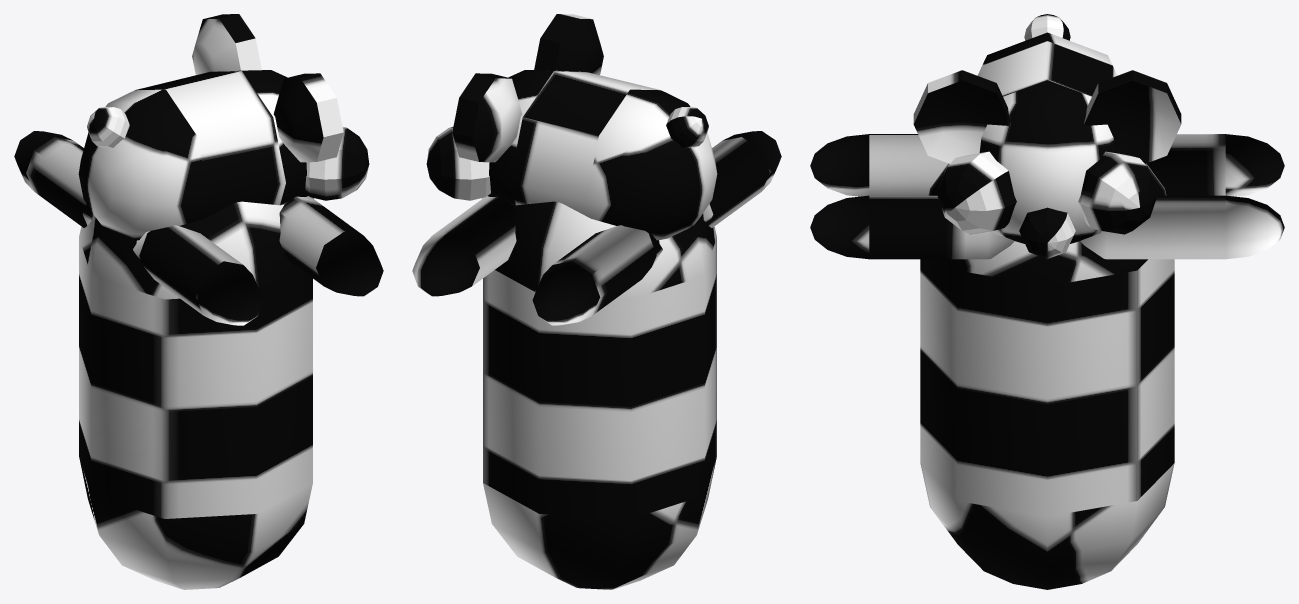
The model's file is pill.obj.
3 renders of one model, left to right at view 1: azimuth 30°, elevation 25°; view 2: azimuth 150°, elevation 25°; view 3: azimuth 270°, elevation 25°, orthographic. The views are drawn at different scales.
Parts seen in each view (by area): view 1: initialShadingGroup pCylinder2, pCylinder1; view 2: initialShadingGroup pCylinder2, pCylinder1; view 3: initialShadingGroup pCylinder2, pCylinder1.
Boxes of the visible parts, <box> form: initialShadingGroup pCylinder2: <box>79,201,312,589</box>; pCylinder1: <box>14,14,383,325</box>; initialShadingGroup pCylinder2: <box>483,201,716,589</box>; pCylinder1: <box>412,14,781,325</box>; initialShadingGroup pCylinder2: <box>920,163,1174,589</box>; pCylinder1: <box>810,14,1284,259</box>.
Bounding box in the file's own units: 0.7083 × 1.41 × 1.12.
1 material, 1 textured.
